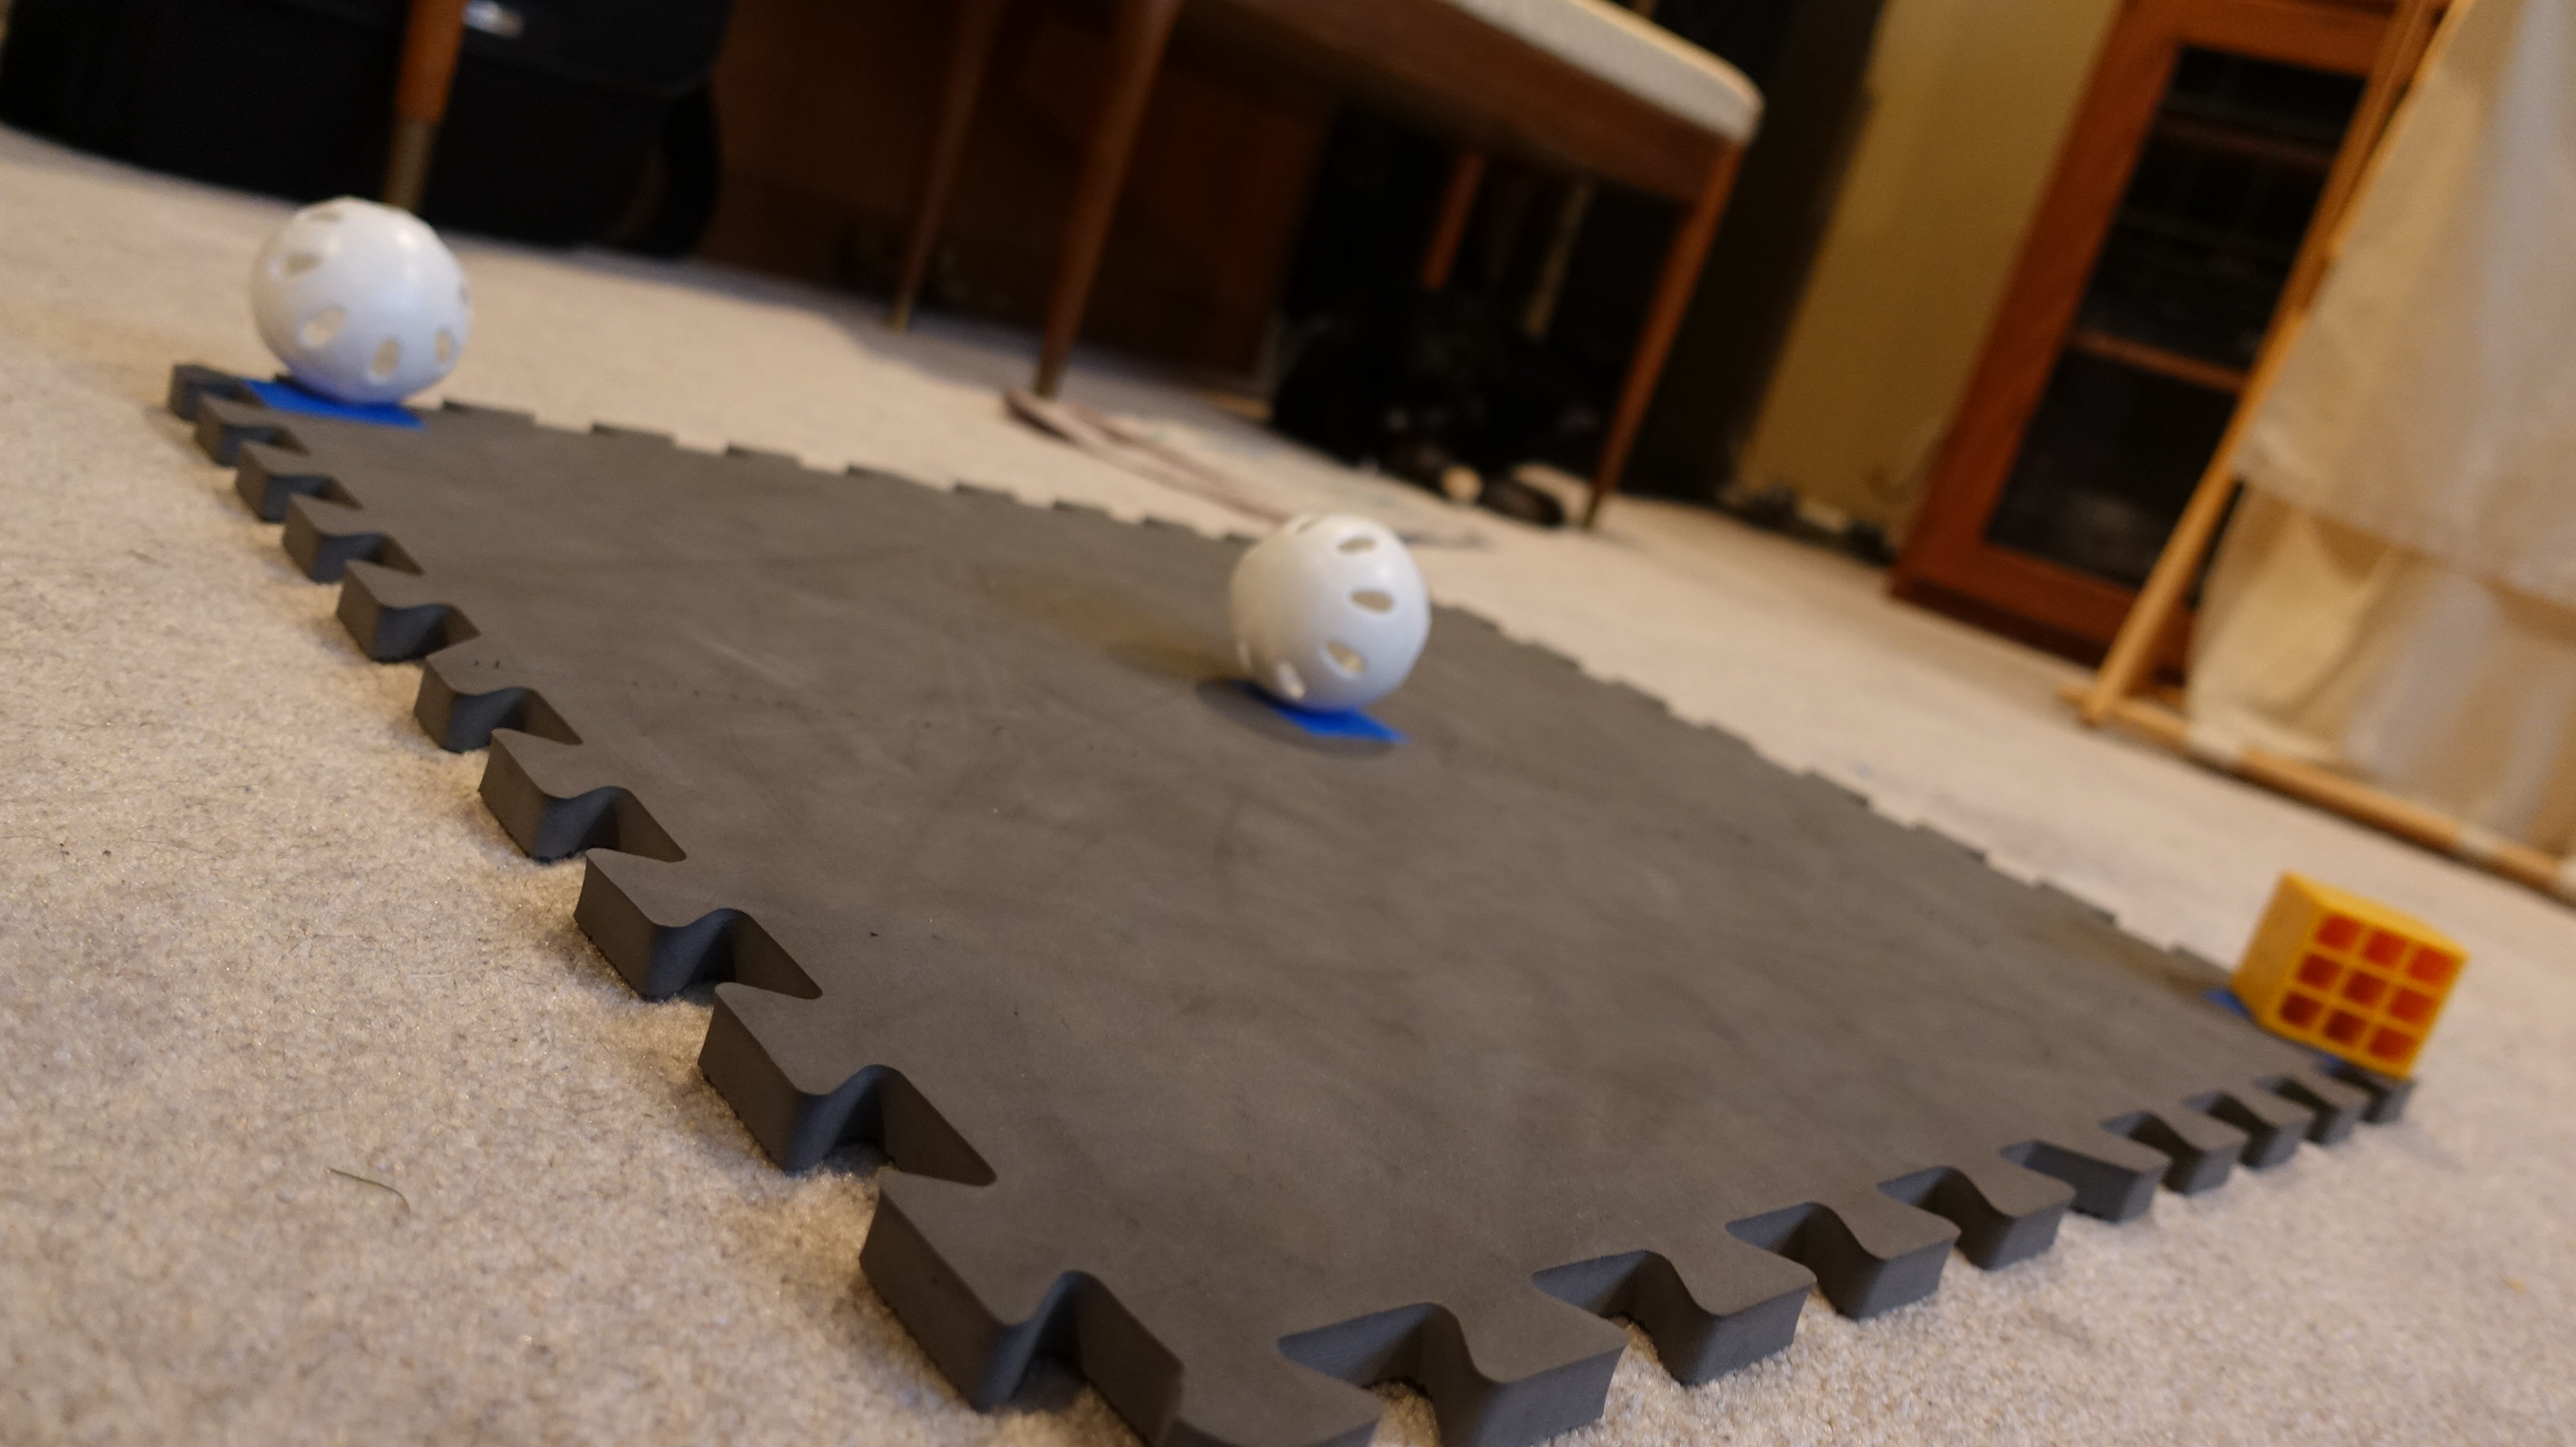gold: (2226, 867, 2465, 1086)
silver: (248, 196, 467, 417), (1219, 504, 1431, 713)
